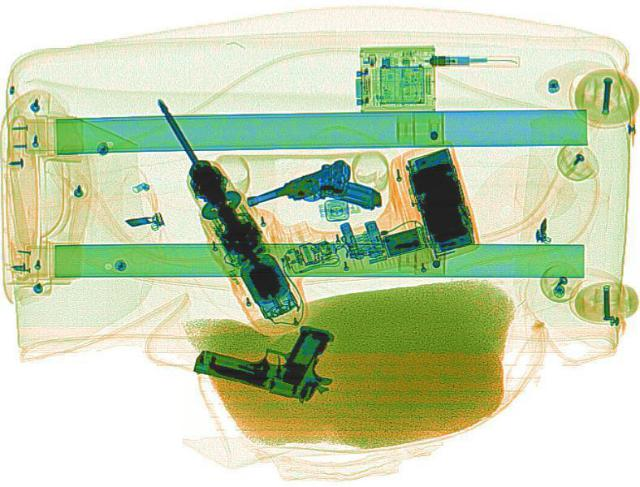Gun: (188, 303, 356, 404), (238, 155, 386, 244)
